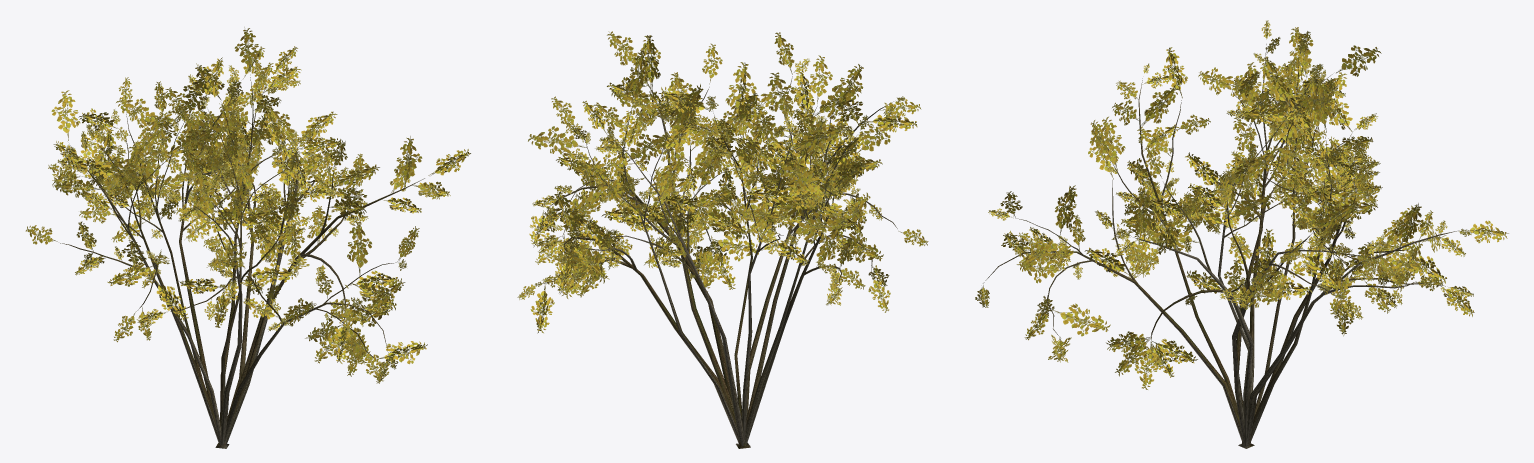
File: tree-bush.glb
3 views of the same model, side by side, from view 1: azimuth 30°, elevation 25°; view 2: azimuth 150°, elevation 25°; view 3: azimuth 270°, elevation 25° (orthographic). The views are drawn at different scales.
Visible parts, largest first — view 1: Tree; view 2: Tree; view 3: Tree.
Part boxes in pixels (x1,y1,x2,y2): Tree: (25,27,470,448); Tree: (517,31,928,448); Tree: (975,20,1508,448).
Bounding box in the file's own units: 28.5 × 29.72 × 37.31.
2 materials, 2 textured.
